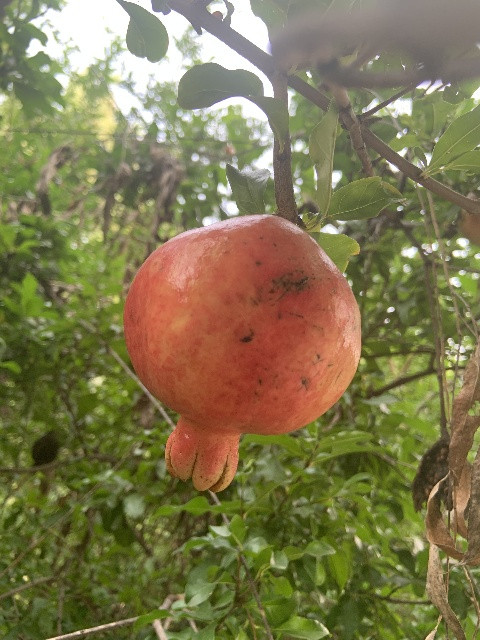ripe: (122, 216, 360, 491)
